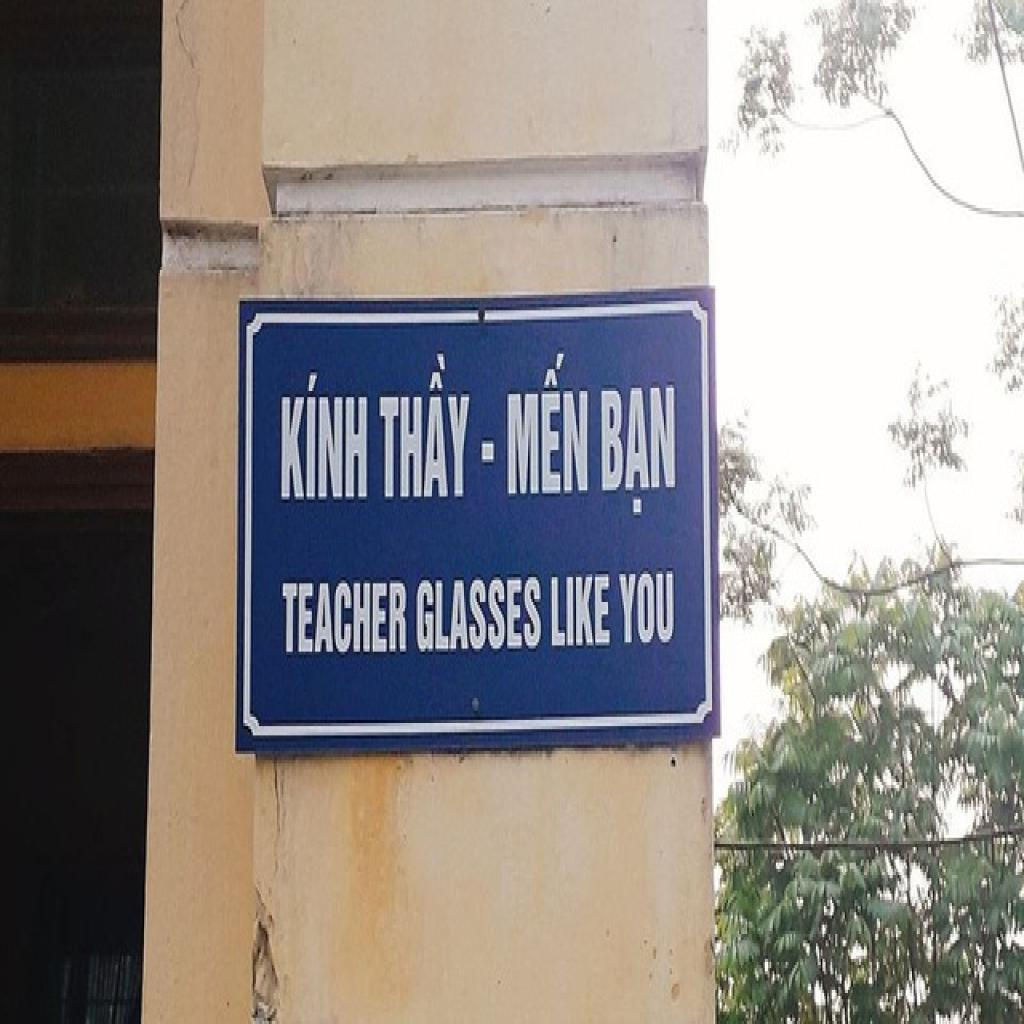text: (371, 338, 480, 522), (270, 360, 374, 521), (499, 344, 594, 512), (410, 562, 548, 676), (594, 372, 684, 528), (278, 571, 413, 673), (547, 555, 613, 664)
